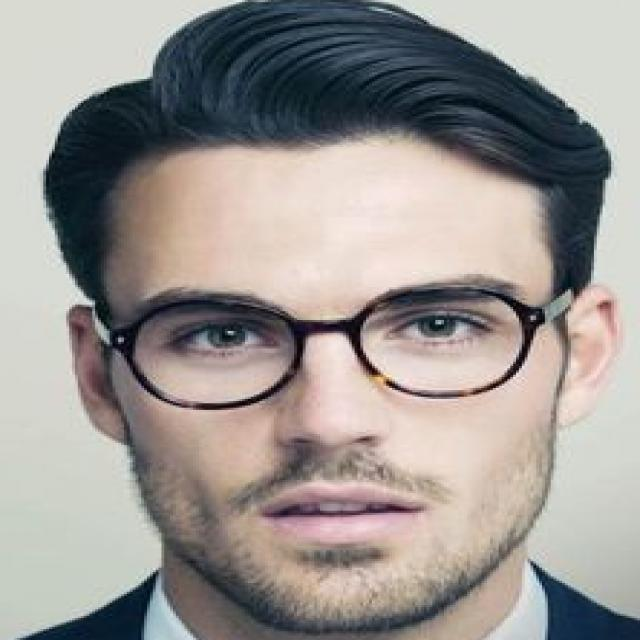Glasses: (94, 280, 570, 416)
